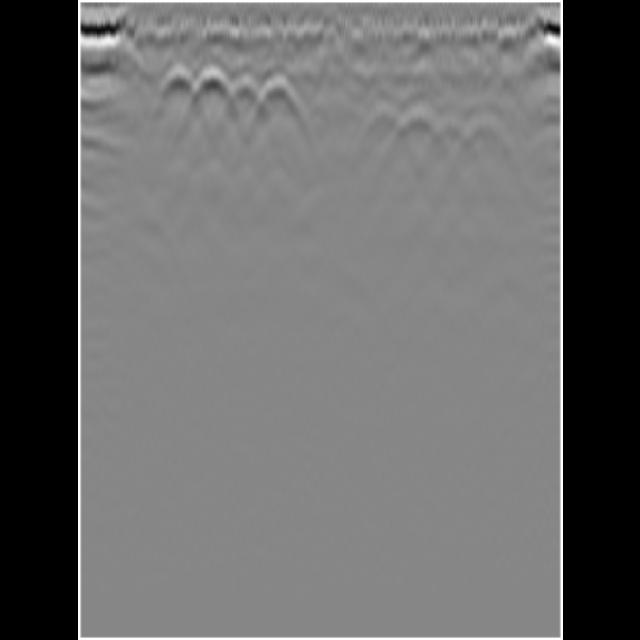hyperbola: (396, 102, 446, 148), (466, 111, 512, 155), (359, 102, 405, 144), (259, 70, 303, 112), (158, 63, 200, 107), (222, 74, 266, 114), (192, 63, 236, 101), (430, 115, 468, 154)
